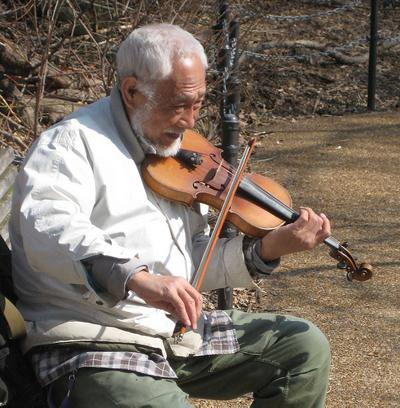person: (10, 23, 333, 408)
